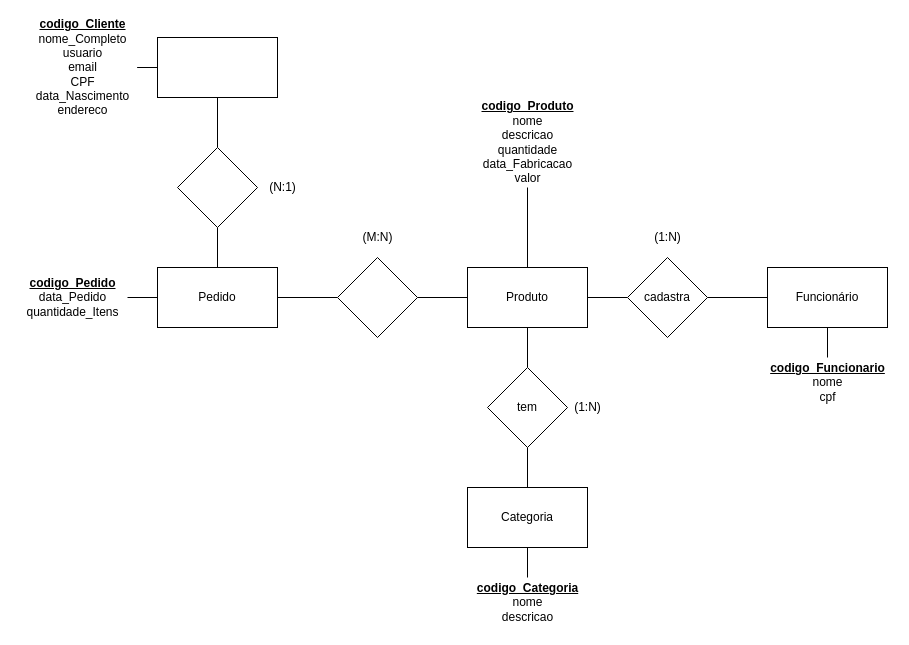
This 909x645 diagram has some shape labels left out. Here are the shapes that lost their labels. From the top down, the centre of each, then its label:
At (217,67): "Cliente".
At (217,187): "faz".
At (377,297): "contém".
